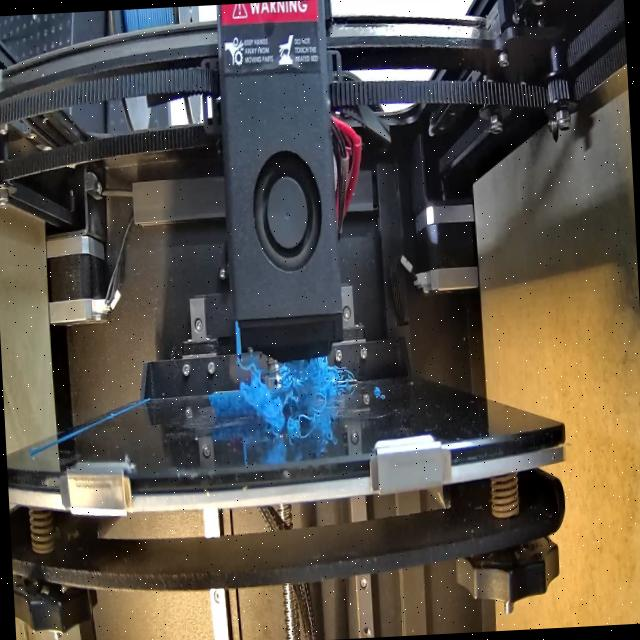spaghetti: (238, 354, 357, 436)
